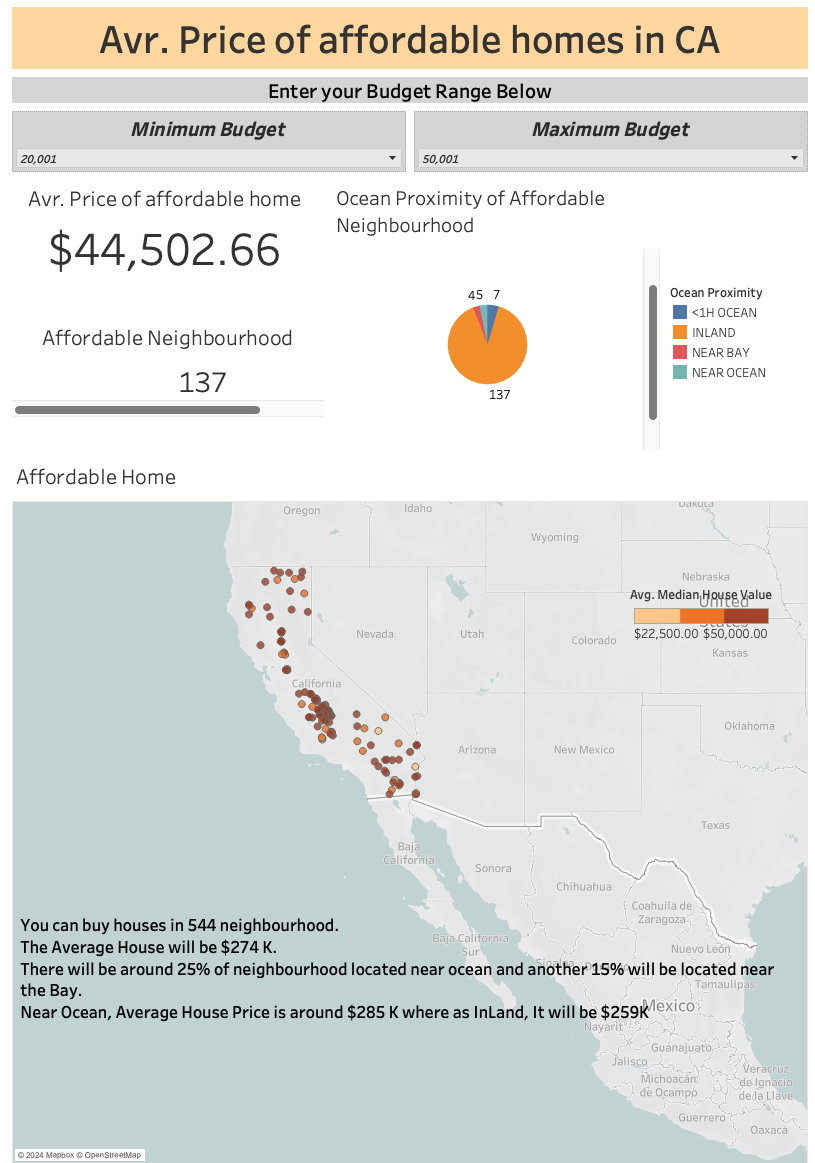

The dashboard page shown, as its layout file describes it:
{"tool":"tableau","page":{"name":"Avr. Price of affordable homes in CA","canvas":[1000,1000],"units":"permille","ordinal":0},"visuals":[{"type":"title","box":[9.8,6.9,980.5,60.4]},{"type":"text","box":[9.8,67.2,980.5,29.3]},{"type":"parameter","param":"[Parameters].[Parameter 1]","box":[9.8,96.6,490.2,56]},{"type":"parameter","param":"[Parameters].[Enter your Budget (copy)_5461177540087558150]","box":[500,96.6,490.2,56]},{"type":"worksheet","title":"Avr. Price of affordable home","mark":"Automatic","box":[9.8,152.6,390.2,117.7]},{"type":"worksheet","title":"Ocean Proximity of Affordable Neighborhood","mark":"Pie","box":[400,152.6,590.2,235.7]},{"type":"legend","title":"Ocean Proximity of Affordable Neighborhood","param":"[federated.0e5wdql09sb56g10pghwm11j47eq].[none:ocean_proximity:nk]","box":[817.1,244.8,170.7,122.9]},{"type":"worksheet","title":"Affordable Neighborhood","mark":"Text","box":[9.8,270.3,390.2,118]},{"type":"worksheet","title":"Affordable Home","mark":"Multipolygon","rows":["latitude"],"cols":["longitude"],"box":[9.8,388.3,980.5,604.8]},{"type":"legend","title":"Affordable Home","param":"[federated.0e5wdql09sb56g10pghwm11j47eq].[avg:median_house_value:qk]","box":[768.3,500,174.4,79.2]},{"type":"text","box":[28.1,842.2,931.7,143.1]}]}

Visuals, with their boxes on the dashboard's canvas, which has no fixed pixel size, in thousandths of its width and height (x1, y1, x2, y2). These are canvas units, not pixel positions in the 815x1163 screenshot, which may show the page scaled, cropped or inside an application window:
title: (10,7,990,67)
text: (10,67,990,96)
parameter: (10,97,500,153)
parameter: (500,97,990,153)
"Avr. Price of affordable home" worksheet: (10,153,400,270)
"Ocean Proximity of Affordable Neighborhood" worksheet (Pie marks): (400,153,990,388)
"Ocean Proximity of Affordable Neighborhood" legend: (817,245,988,368)
"Affordable Neighborhood" worksheet (Text marks): (10,270,400,388)
"Affordable Home" worksheet (Multipolygon marks): (10,388,990,993)
"Affordable Home" legend: (768,500,943,579)
text: (28,842,960,985)
